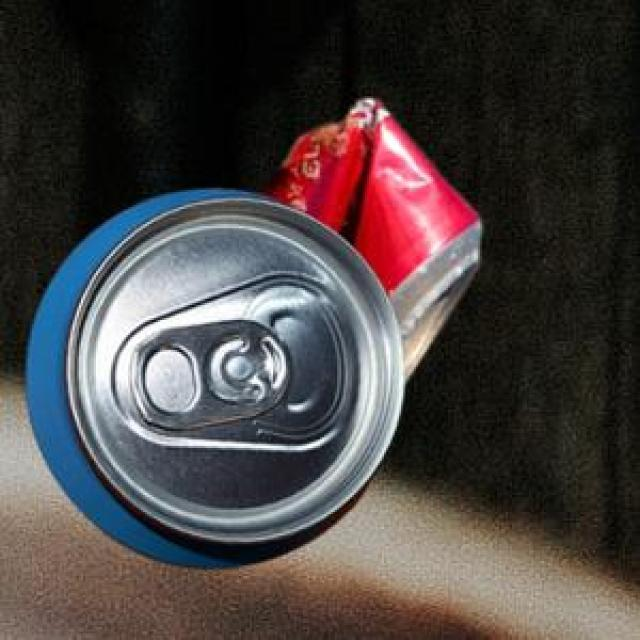Can: (22, 187, 402, 566), (259, 97, 477, 377)
